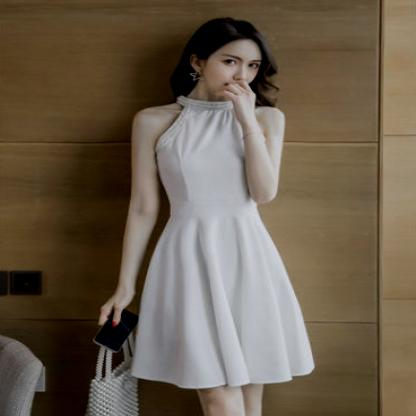jacket: (130, 96, 317, 388)
